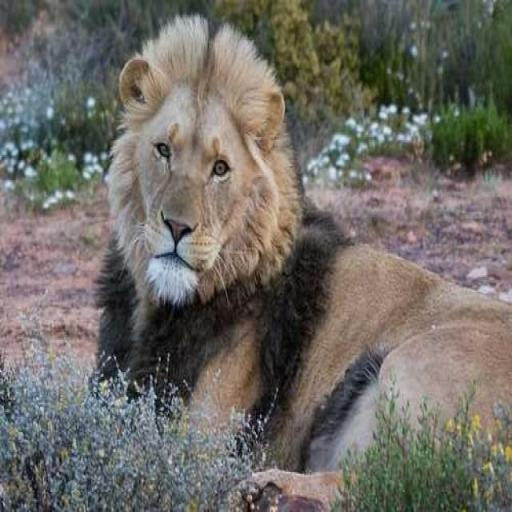Lion: (90, 10, 510, 477)
